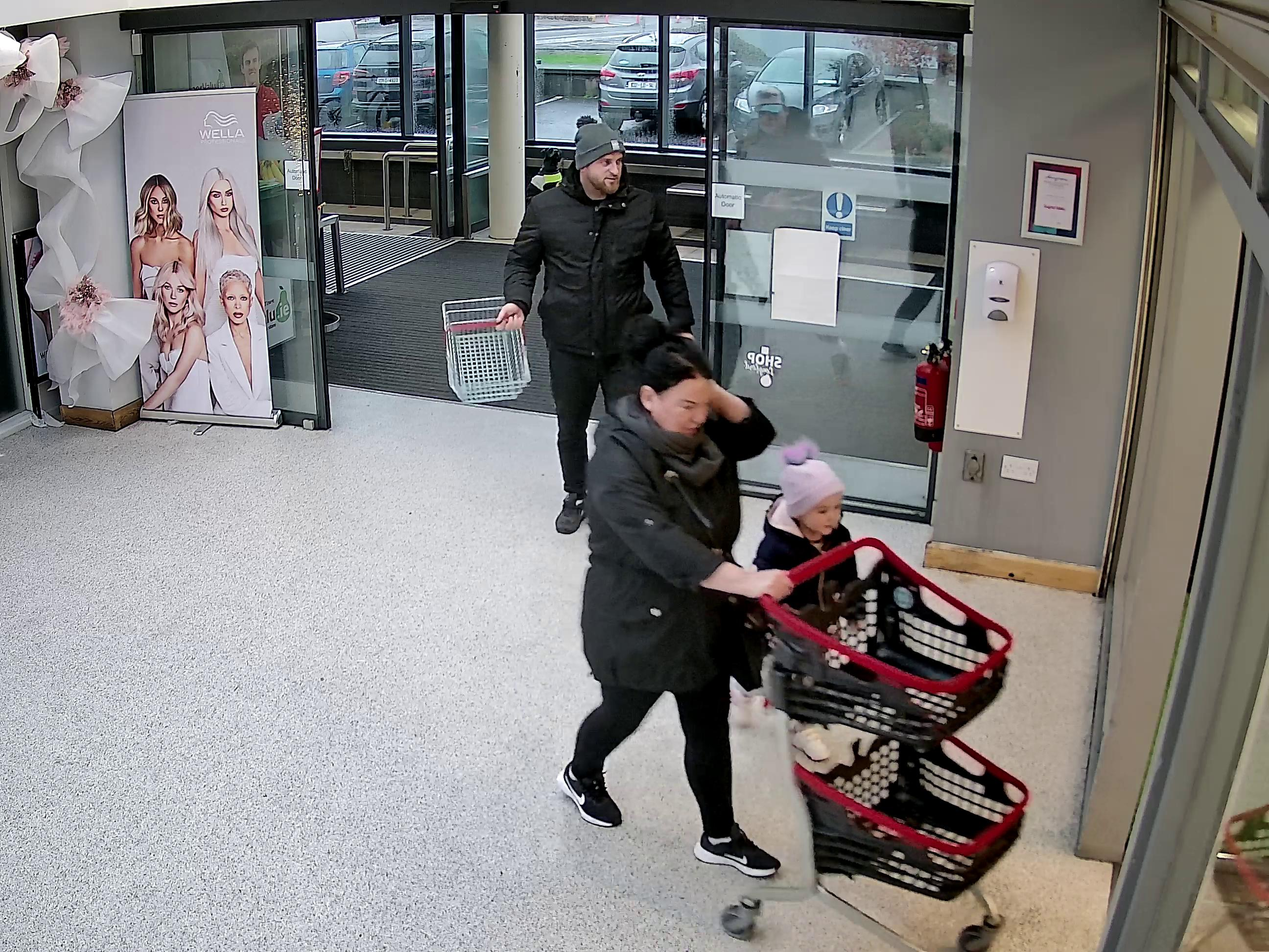empty-basket: (442, 295, 532, 402)
empty-trolly: (723, 535, 1031, 952)
person: (561, 328, 780, 877), (498, 116, 695, 532)
person-with-empty-basket-trolly: (562, 328, 1031, 952), (441, 114, 695, 528)
